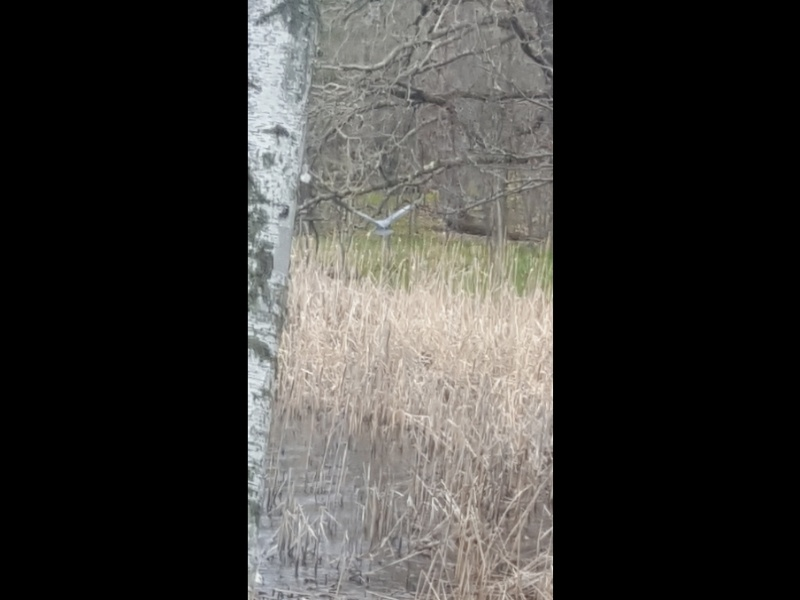heron: (337, 192, 421, 235)
